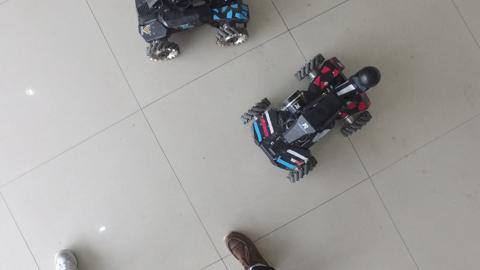chariot: (236, 48, 391, 189), (129, 1, 259, 69)
